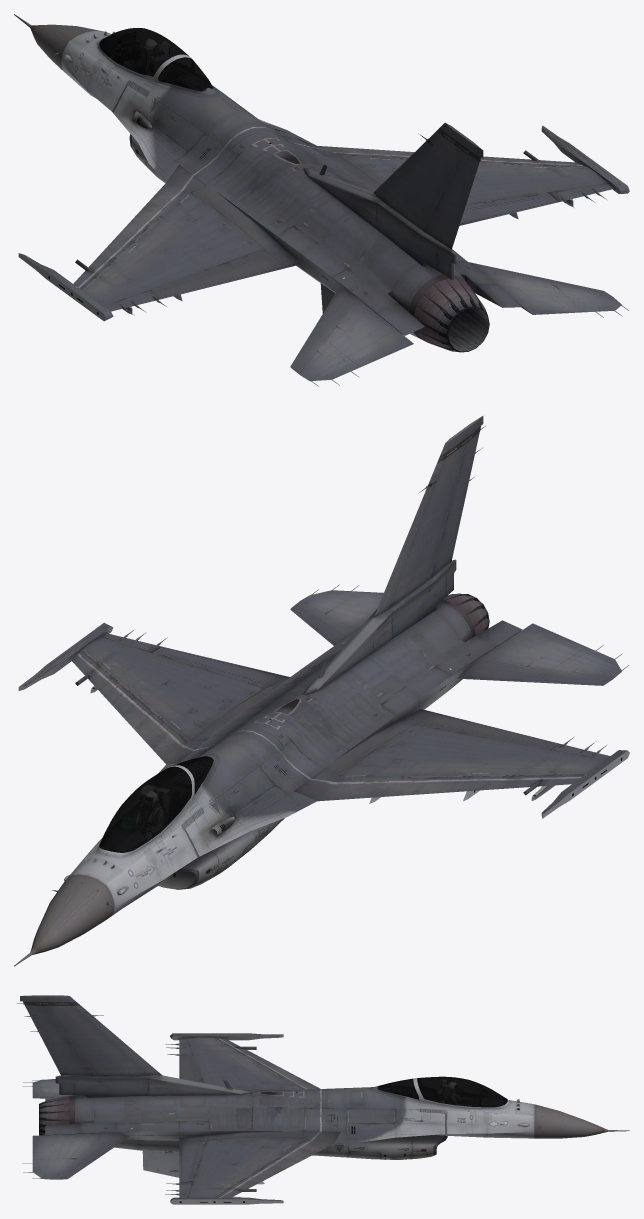
The model's file is f16-c_falcon.glb.
3 views of the same model, one above another, from view 1: azimuth 30°, elevation 25°; view 2: azimuth 150°, elevation 25°; view 3: azimuth 270°, elevation 25° (orthographic). The views are drawn at different scales.
Visible parts, largest first — view 1: LOD0_0, ElevatorL01_16, EngineL01_17, ElevatorR01_7, AileronL01_9, Glass_Canopy01_2, VoletL01_15, RudderL01_18, AileronR01_8, VoletR01_14, Canopy01_1, Glass01_5 (+3 smaller); view 2: LOD0_0, ElevatorL01_16, Glass_Canopy01_2, VoletL01_15, VoletR01_14, ElevatorR01_7, AileronL01_9, AileronR01_8, RudderL01_18, Canopy01_1, Pilot_4, EngineL01_17; view 3: LOD0_0, ElevatorR01_7, Glass_Canopy01_2, RudderL01_18, VoletR01_14, AileronR01_8, Canopy01_1, EngineL01_17, VoletL01_15, ElevatorL01_16, AileronL01_9, Glass01_5 (+1 smaller).
Boxes of the visible parts, x1,y1,x2,y2 form: LOD0_0: [14, 14, 629, 340]; ElevatorL01_16: [290, 288, 413, 386]; EngineL01_17: [414, 279, 489, 352]; ElevatorR01_7: [468, 262, 628, 317]; AileronL01_9: [150, 244, 300, 299]; Glass_Canopy01_2: [99, 28, 190, 76]; VoletL01_15: [73, 182, 186, 289]; RudderL01_18: [425, 149, 485, 249]; AileronR01_8: [459, 192, 560, 225]; VoletR01_14: [318, 146, 585, 166]; Canopy01_1: [86, 36, 192, 92]; Glass01_5: [158, 57, 213, 91]; LOD0_0: [14, 416, 629, 966]; ElevatorL01_16: [457, 623, 628, 685]; Glass_Canopy01_2: [99, 766, 191, 852]; VoletL01_15: [317, 774, 585, 801]; VoletR01_14: [71, 651, 187, 764]; ElevatorR01_7: [290, 584, 383, 645]; AileronL01_9: [397, 709, 559, 749]; AileronR01_8: [150, 646, 289, 690]; RudderL01_18: [433, 426, 485, 576]; Canopy01_1: [86, 765, 205, 866]; Pilot_4: [136, 791, 163, 840]; EngineL01_17: [443, 593, 489, 635]; LOD0_0: [20, 995, 629, 1204]; ElevatorR01_7: [22, 1133, 130, 1179]; Glass_Canopy01_2: [417, 1076, 507, 1107]; RudderL01_18: [17, 1001, 90, 1075]; VoletR01_14: [215, 1139, 333, 1197]; AileronR01_8: [179, 1135, 209, 1182]; Canopy01_1: [409, 1078, 513, 1113]; EngineL01_17: [39, 1096, 69, 1135]; VoletL01_15: [215, 1038, 320, 1089]; ElevatorL01_16: [22, 1079, 73, 1098]; AileronL01_9: [179, 1055, 203, 1082]; Glass01_5: [378, 1078, 418, 1099].
Size of the model in its own units: 5.83 by 2.82 by 9.14.
Materials: 4 (3 with a texture image).
